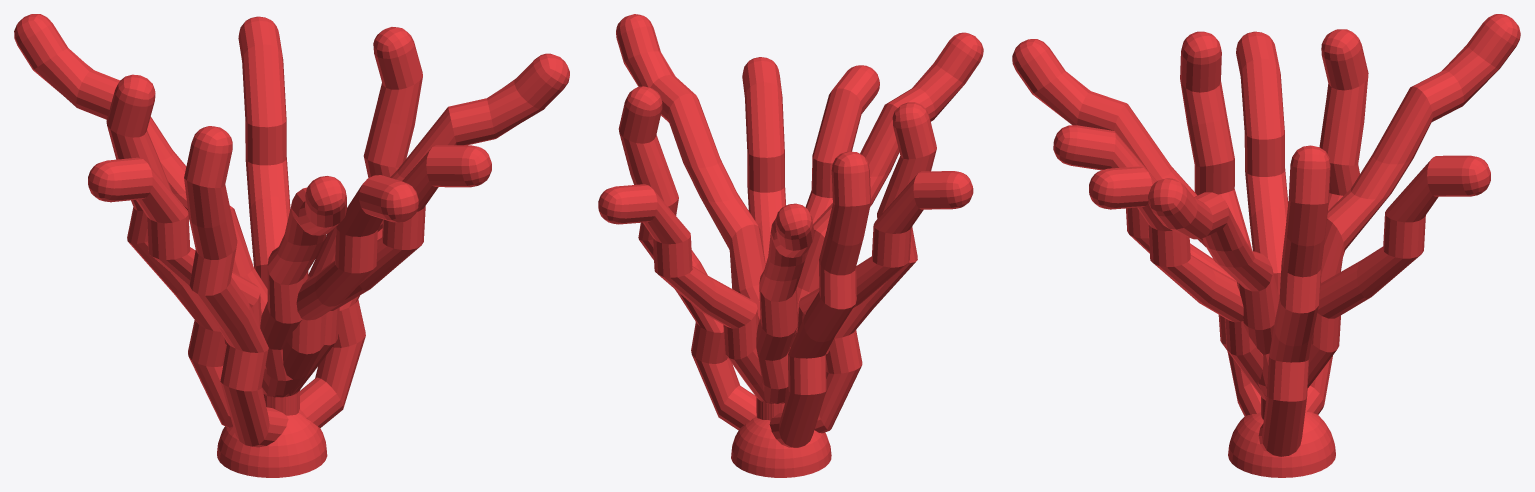
The picture shows the model from 3 angles, left to right: view 1: azimuth 30°, elevation 25°; view 2: azimuth 150°, elevation 25°; view 3: azimuth 270°, elevation 25°; orthographic projection. The views are drawn at different scales.
Visible parts, largest first — view 1: Cube.006; view 2: Cube.006; view 3: Cube.006.
Boxes of the visible parts, x1,y1,x2,y2 form: Cube.006: [14, 14, 569, 477]; Cube.006: [598, 14, 983, 477]; Cube.006: [1012, 14, 1520, 477].
Bounding box in the file's own units: 1.07 × 0.9181 × 1.12.
